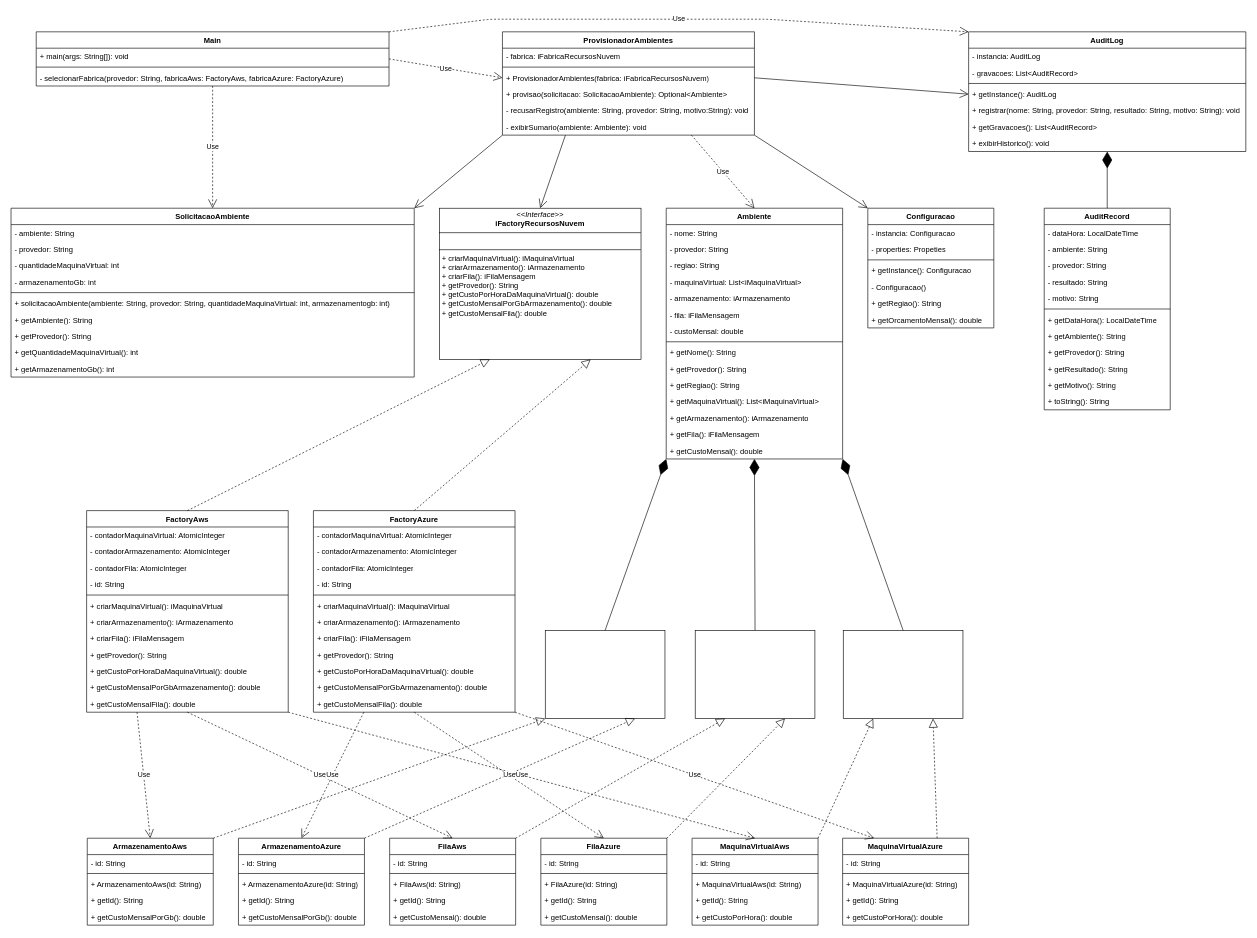
The diagram is 1257 pixels wide and 938 high, and some of its shapes have lost their labels. Here are the shapes that lost their labels. From the top down, the centre of each, then its label:
At point (605, 674): "<<Interface>> iArmazenamento + getId(): String + getCustoMensalPorGb(): double".
At point (755, 674): "<<Interface>> iFilaMensagem + getId(): String + getCustoMensal(): double".
At point (903, 674): "<<Interface>> iMaquinaVirtual + getId(): String + getCustoPorHora(): double".
